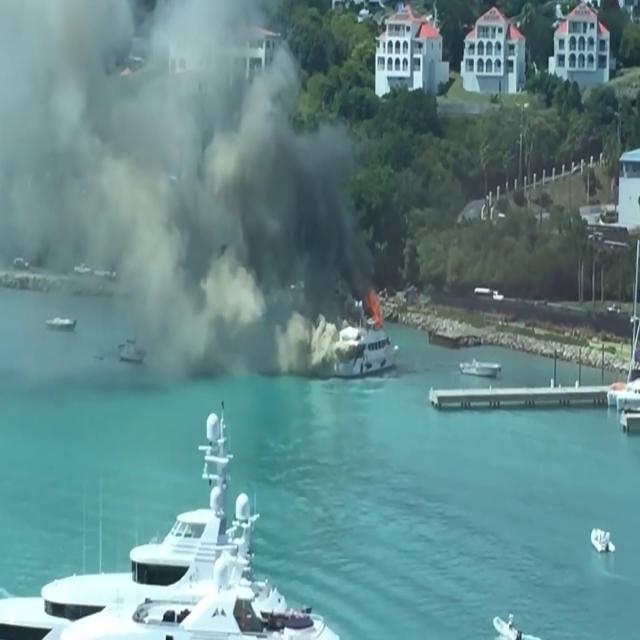Smoke: (0, 1, 377, 386)
